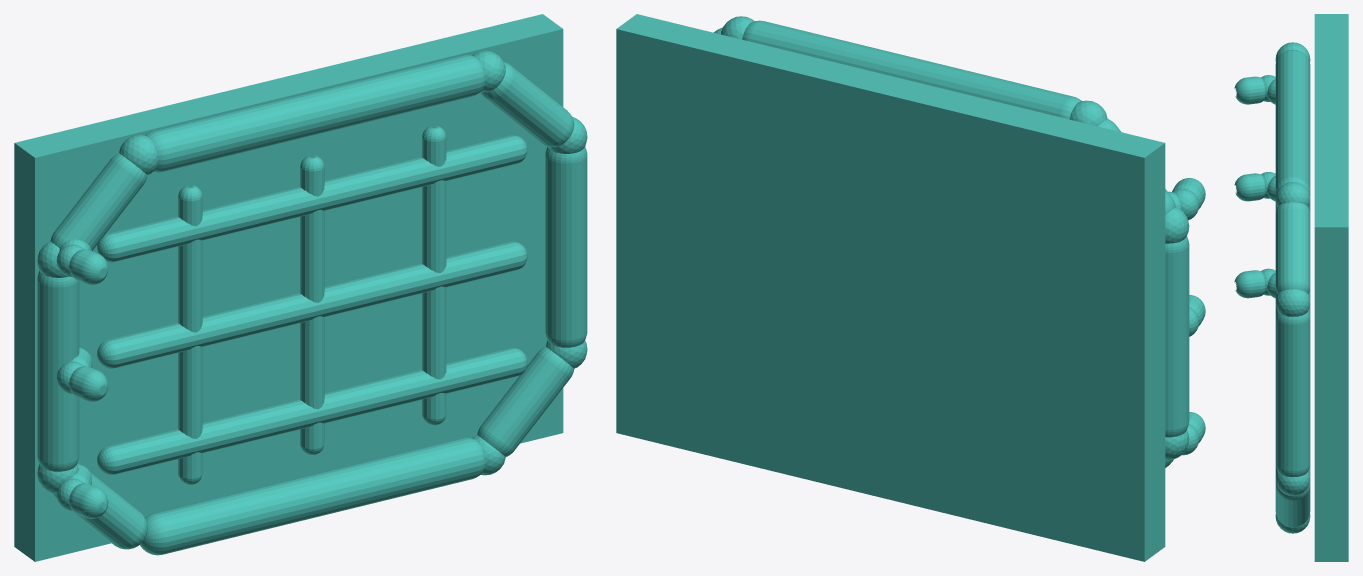
The model's file is dranmar_fenestrated_pad.glb.
3 views of the same model, side by side, from view 1: azimuth 30°, elevation 25°; view 2: azimuth 150°, elevation 25°; view 3: azimuth 270°, elevation 25° (orthographic). The views are drawn at different scales.
Parts seen in each view (by area): view 1: pad; view 2: pad; view 3: pad.
Part boxes in pixels (box(x1,y1,x2,y2)): pad: box(14, 14, 587, 561); pad: box(616, 14, 1205, 561); pad: box(1234, 14, 1348, 561).
Bounding box in the file's own units: 0.0536 × 0.0396 × 0.0118.
